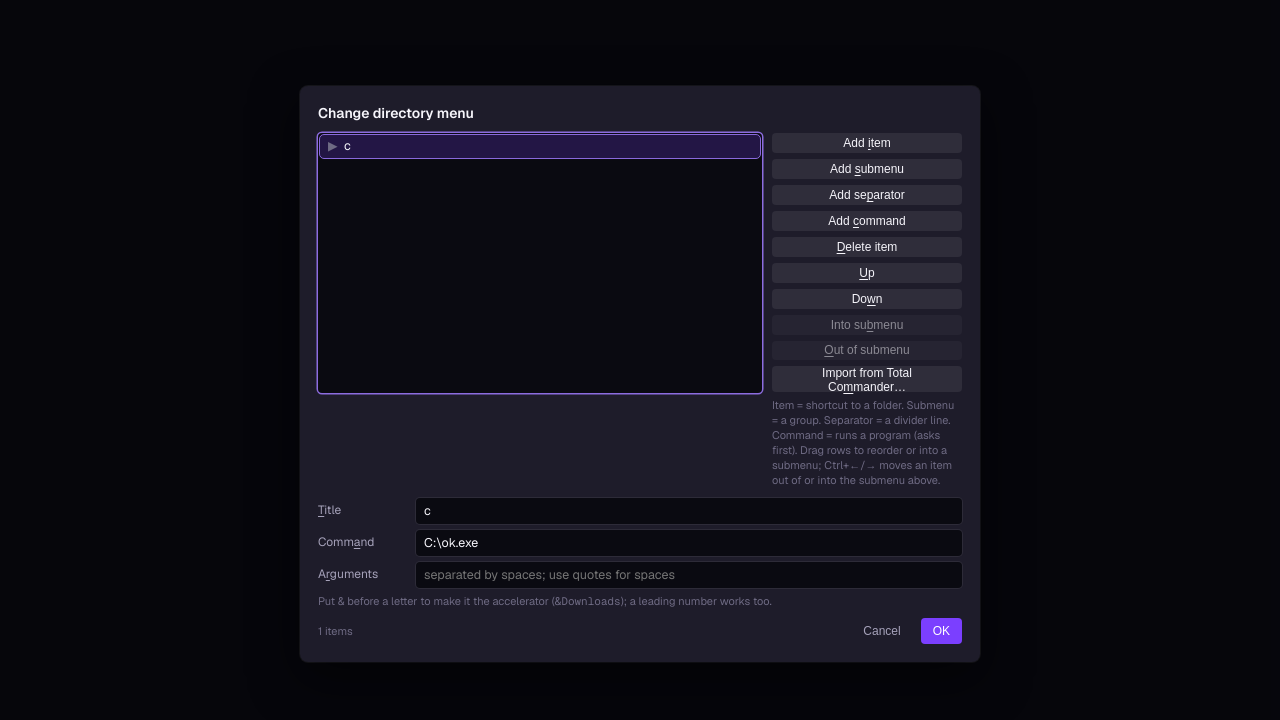
Configure explains refused commands › blocks OK and says why for a URI, a network path and unsafe batch arguments
Expected: the dialog named "Configure Directory Hotlist" is shown, [300,86,980,662]
Replace the text in the field labelled "Command" with "https://example.com/x.exe" at [689, 542], box [416,530,962,556]
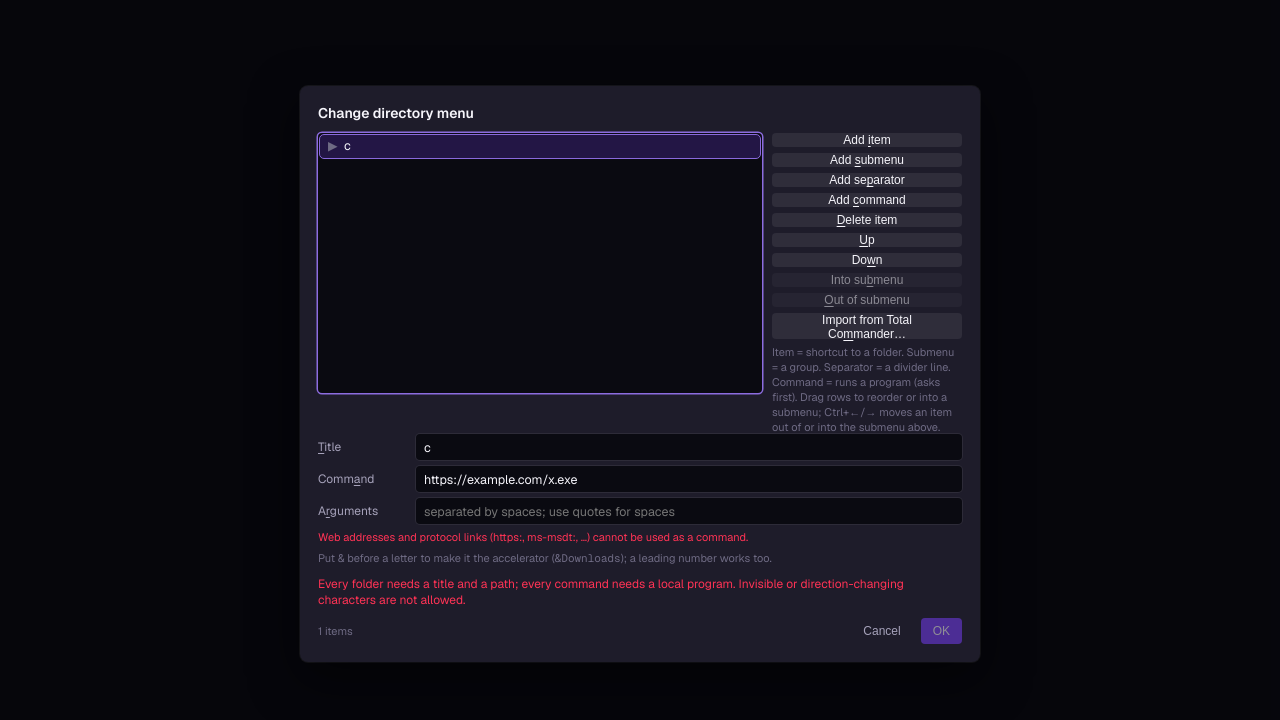
Clear the field labelled "Arguments" at [689, 511], box [416,498,962,524]
Now the message with test id "command-problem" shows "Web addresses", box [318,530,748,544]
Now the button "OK" is disabled, box [921,618,962,644]
Replace the text in the field labelled "Command" with "\\\\host@SSL\\share\\x.exe" at [689, 479], box [416,466,962,492]
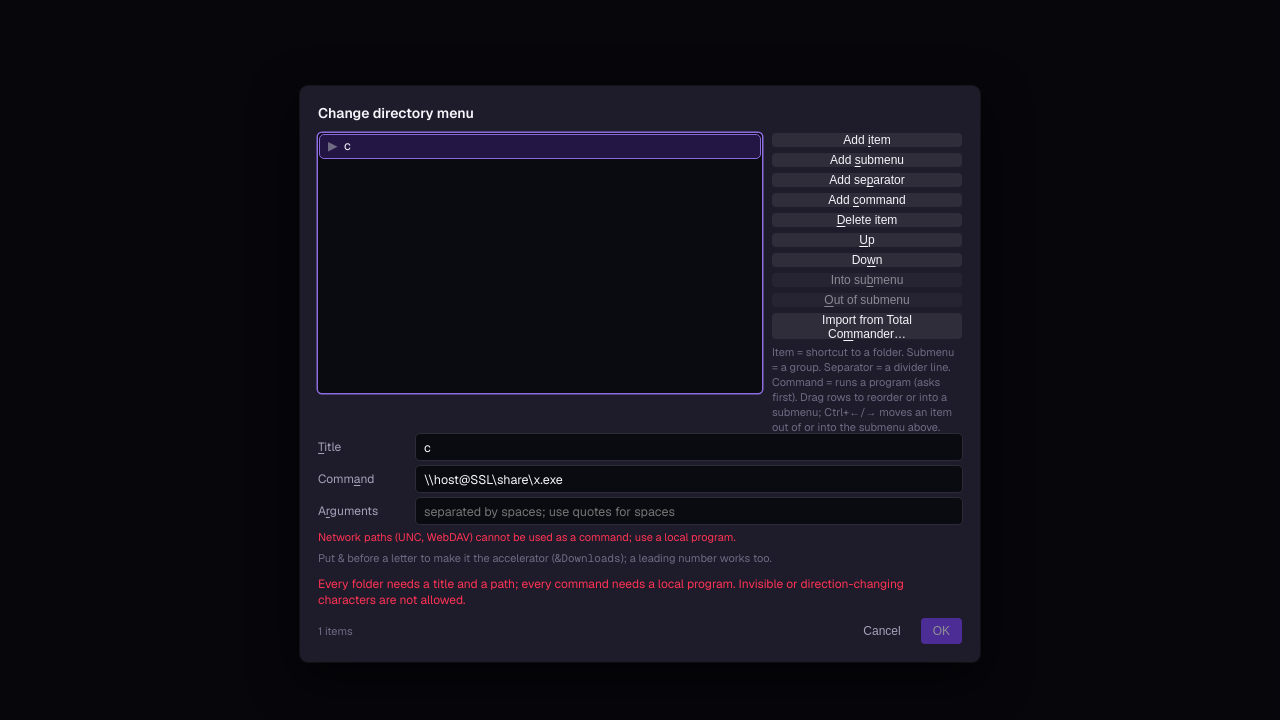
Now the message with test id "command-problem" shows "Network paths", box [318,530,736,544]
Replace the text in the field labelled "Command" with "C:\\r.bat" at [689, 479], box [416,466,962,492]
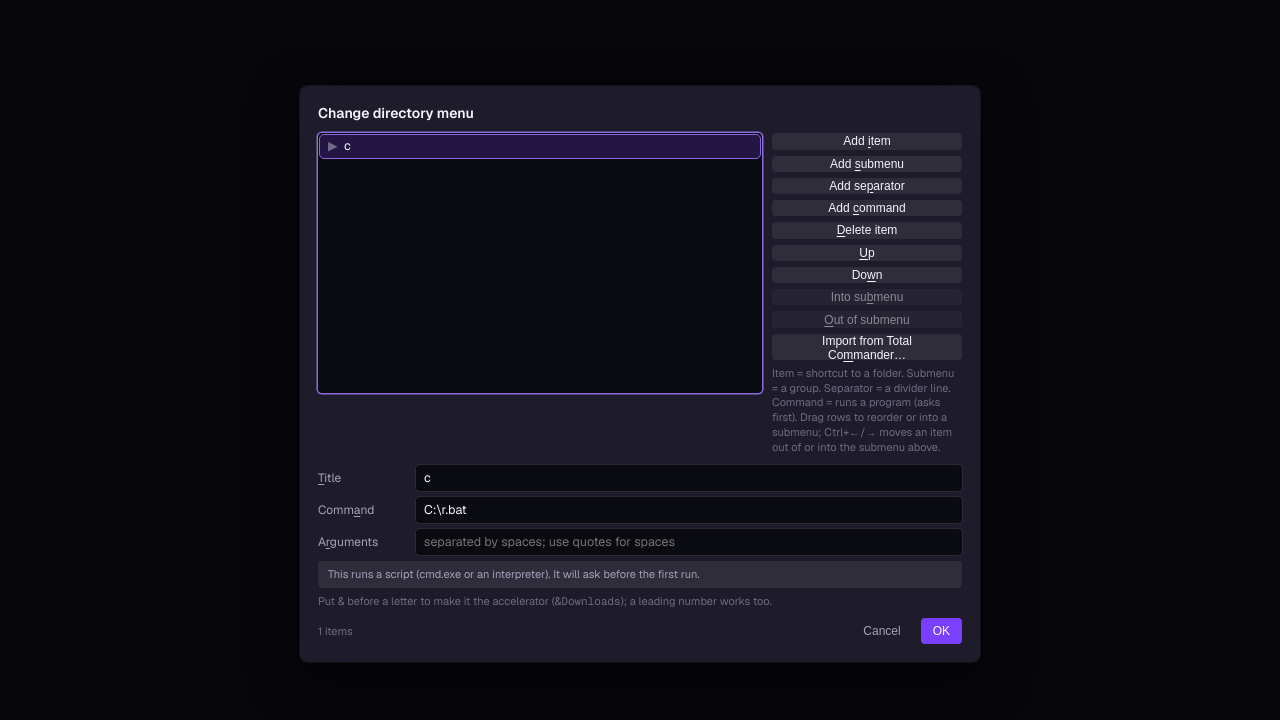
Type "a&b" into the field labelled "Arguments" at [689, 542], box [416,529,962,555]
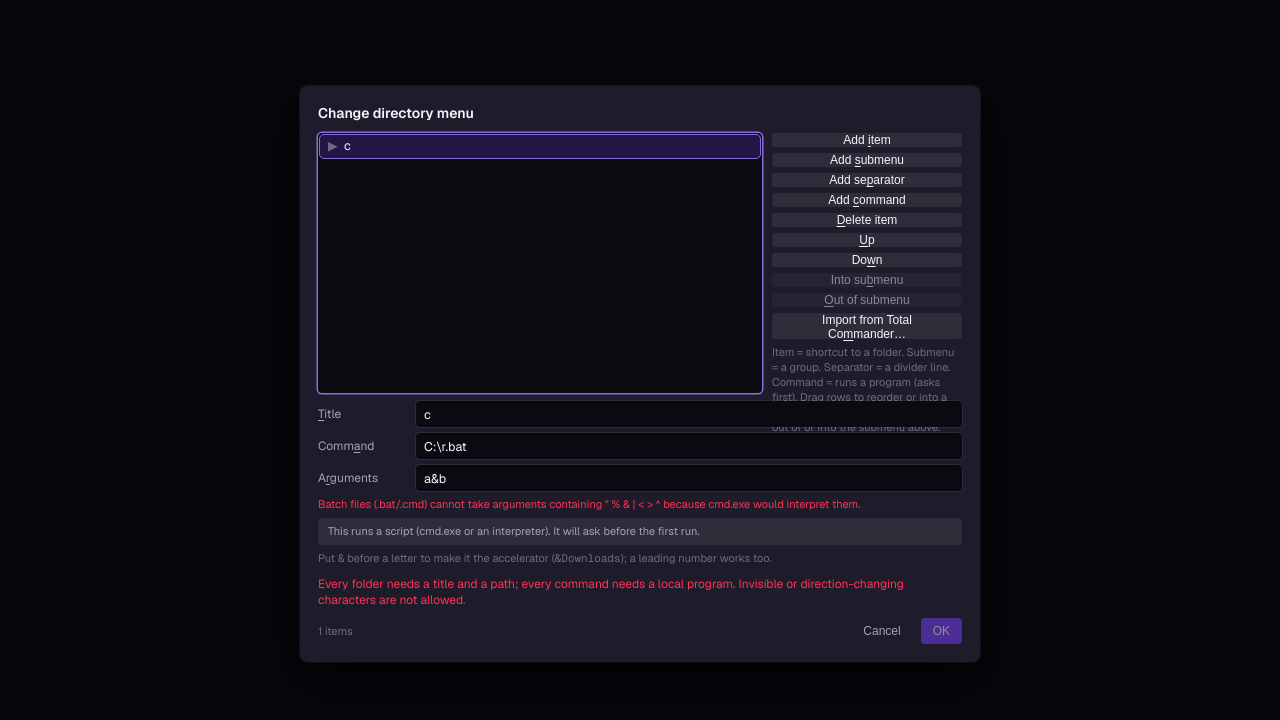
Now the message with test id "command-problem" shows "cmd.exe", box [318,498,860,512]
Now the button "OK" is disabled, box [921,618,962,644]
